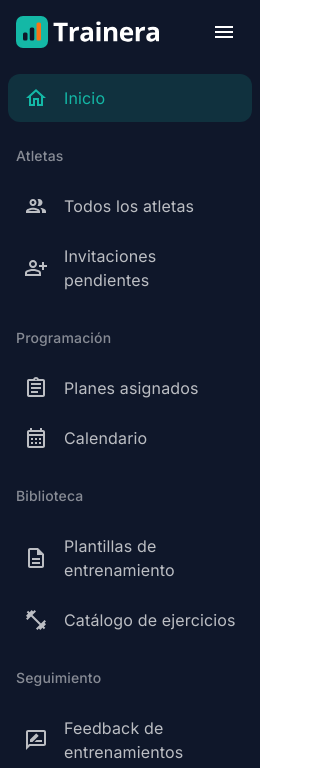
Test: NavigationDrawer › expands again with the labels and the logo
This screenshot has width=320, height=768.
Click the button named "Contraer menú" at (224, 32), box [204,12,244,52]
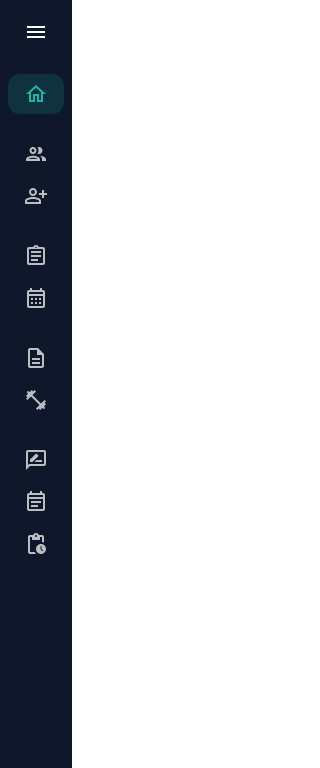
Click the button named "Expandir menú" at (36, 32), box [16,12,56,52]
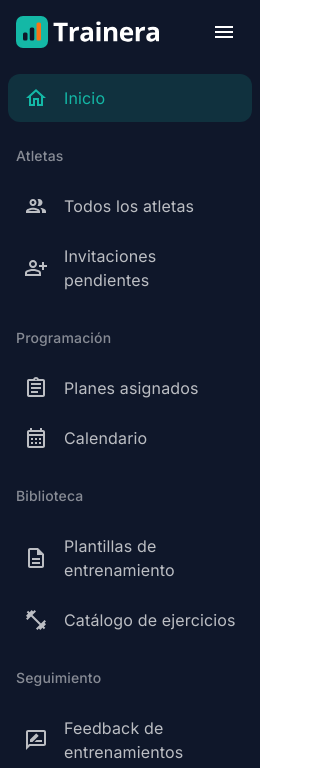
expect the button named "Contraer menú" is expanded: met, box [204,12,244,52]
expect the picture named "Trainera" is shown: met, box [16,16,161,48]
expect the list item "Atletas" is shown: met, box [16,147,64,164]
